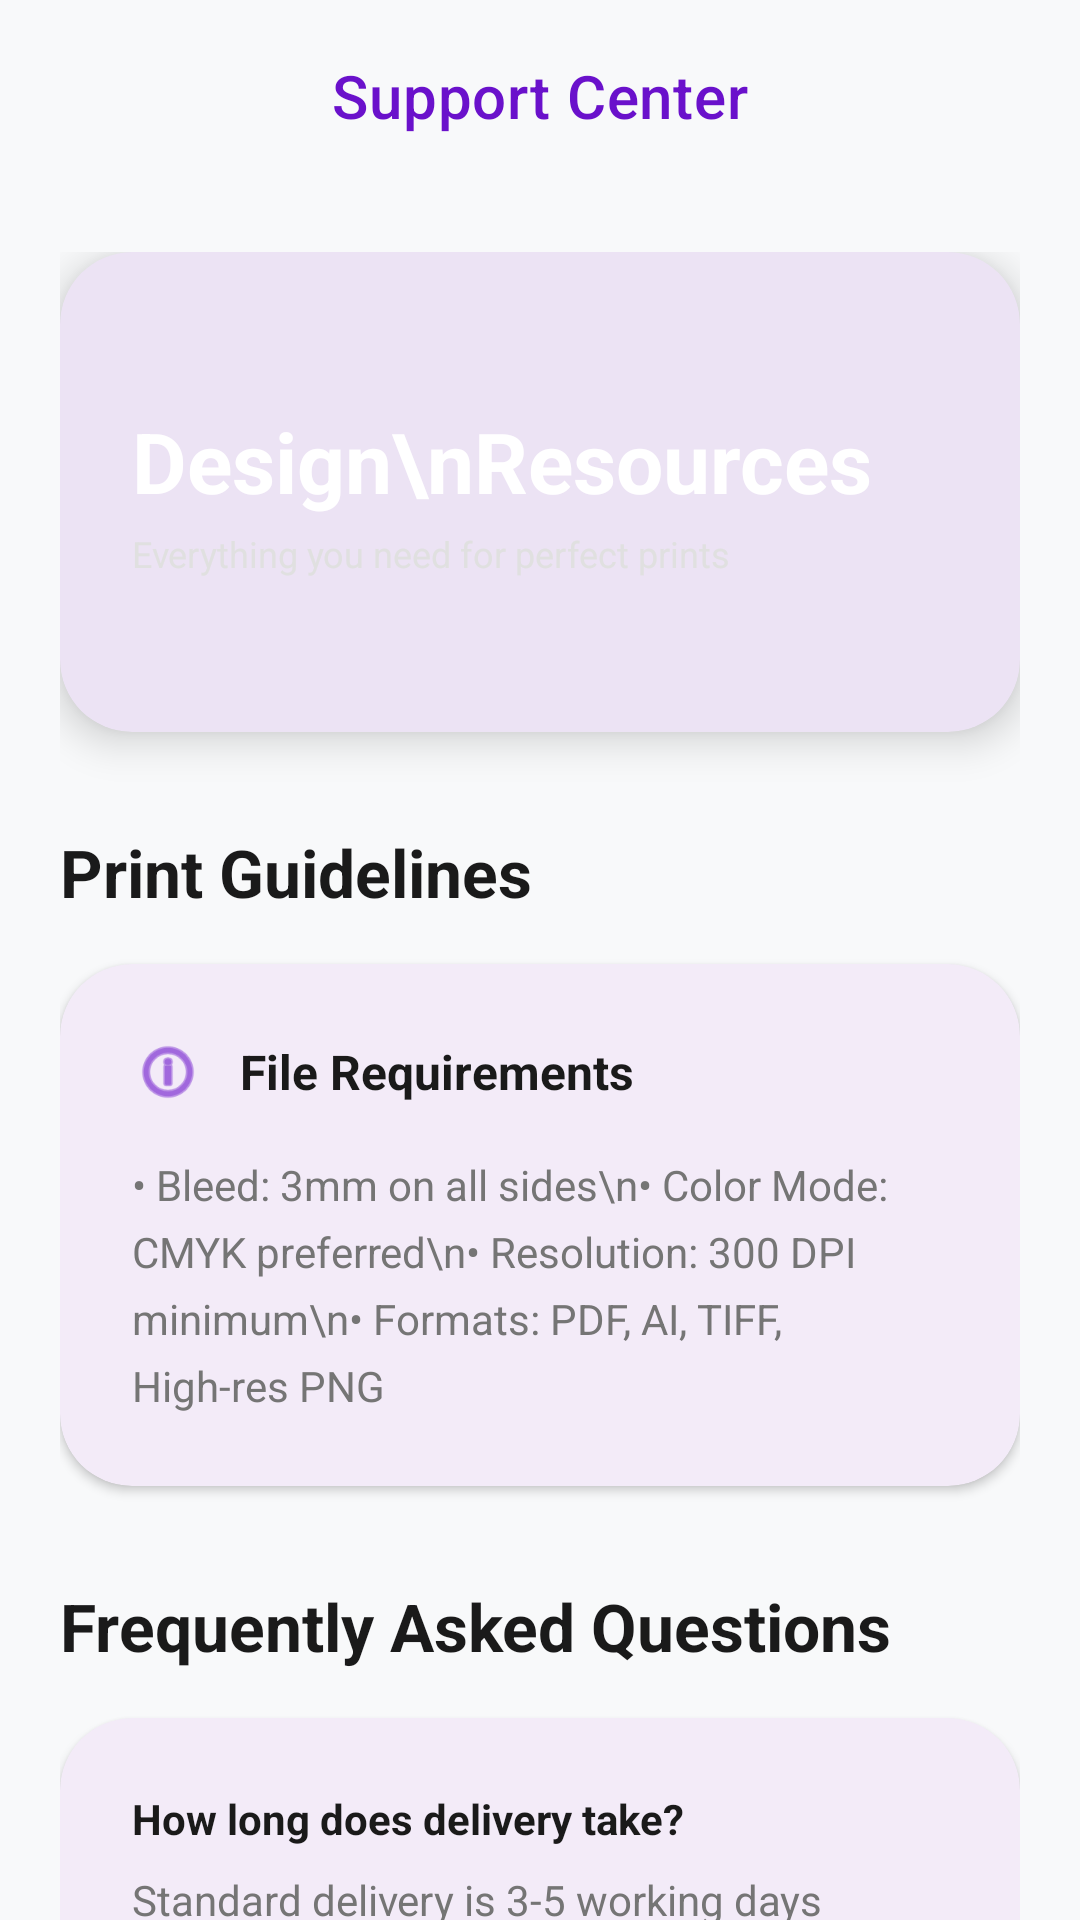

Where icons sit on this 1080px x 1920px app screen, as (x1, y1, x2, y2):
info details: (142, 1046, 194, 1098)
